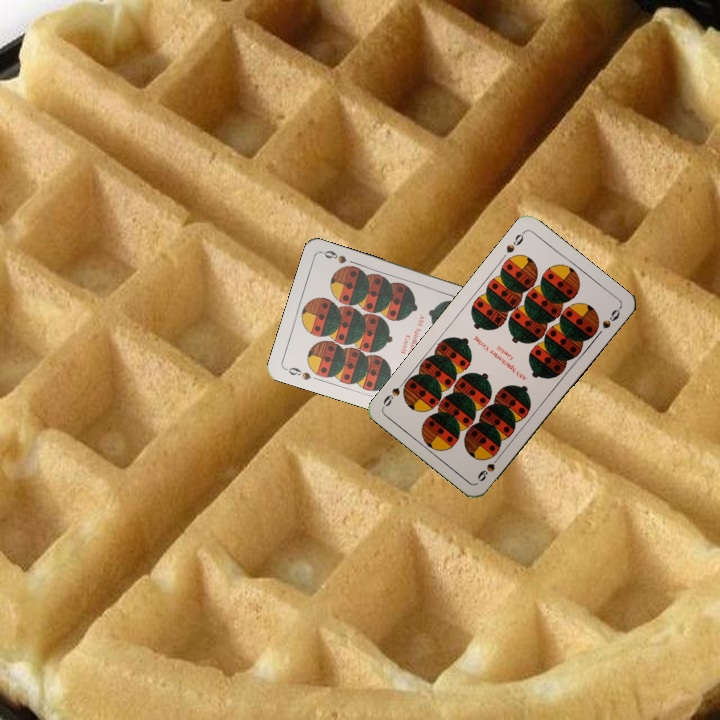S9: (473, 450, 504, 484), (502, 227, 528, 256), (281, 363, 313, 383)
